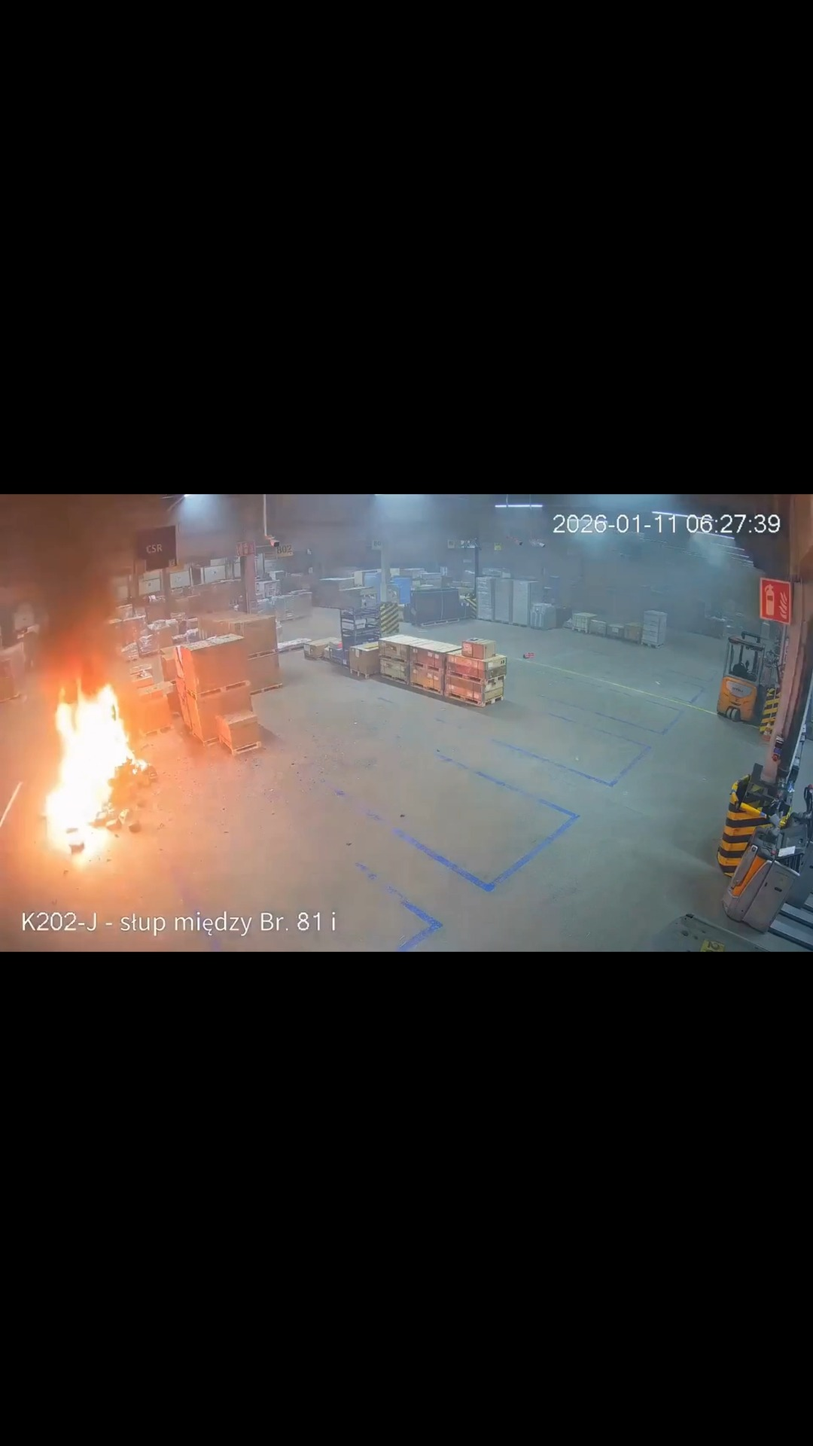fire: (41, 659, 155, 859)
smoke: (1, 496, 169, 690)
